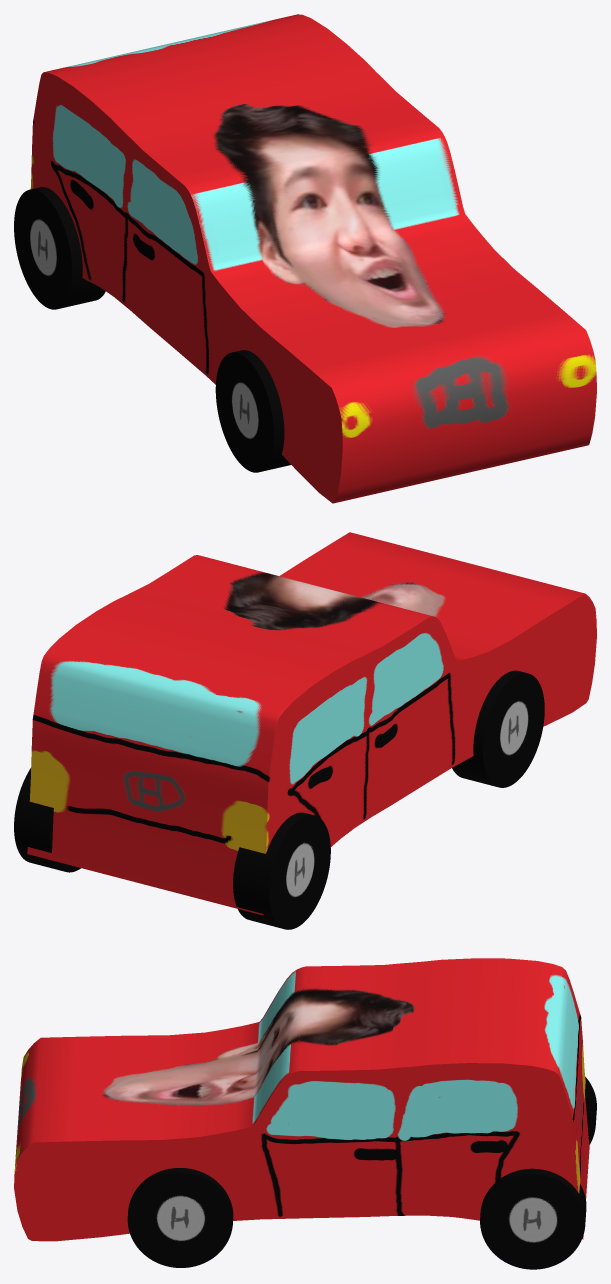
The model's file is honamada1.glb.
3 renders of one model, top to bottom at view 1: azimuth 30°, elevation 25°; view 2: azimuth 150°, elevation 25°; view 3: azimuth 270°, elevation 25°, orthographic. The views are drawn at different scales.
Visible parts, largest first — view 1: mesh_id31, mesh_id34, mesh_id40; view 2: mesh_id31, mesh_id34, mesh_id40, mesh_id50; view 3: mesh_id31, mesh_id50, mesh_id44, mesh_id34.
Part boxes in pixels (x1=…): mesh_id31: x1=30, y1=14, x2=596, y2=503; mesh_id34: x1=14, y1=187, x2=105, y2=309; mesh_id40: x1=215, y1=350, x2=290, y2=472; mesh_id31: x1=27, y1=532, x2=596, y2=915; mesh_id34: x1=233, y1=812, x2=330, y2=929; mesh_id40: x1=452, y1=670, x2=544, y2=787; mesh_id50: x1=14, y1=767, x2=80, y2=872; mesh_id31: x1=14, y1=958, x2=589, y2=1241; mesh_id50: x1=480, y1=1168, x2=586, y2=1269; mesh_id44: x1=127, y1=1168, x2=233, y2=1267; mesh_id34: x1=585, y1=1077, x2=596, y2=1144.
Bounding box in the file's own units: 0.2916 × 0.2312 × 0.5985.
Materials: 2 (2 with a texture image).
